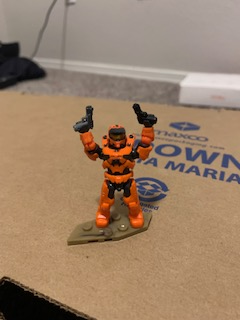pistol: (129, 101, 160, 130), (70, 104, 97, 132)
spartan: (75, 116, 158, 228)
up: (75, 120, 157, 174)
